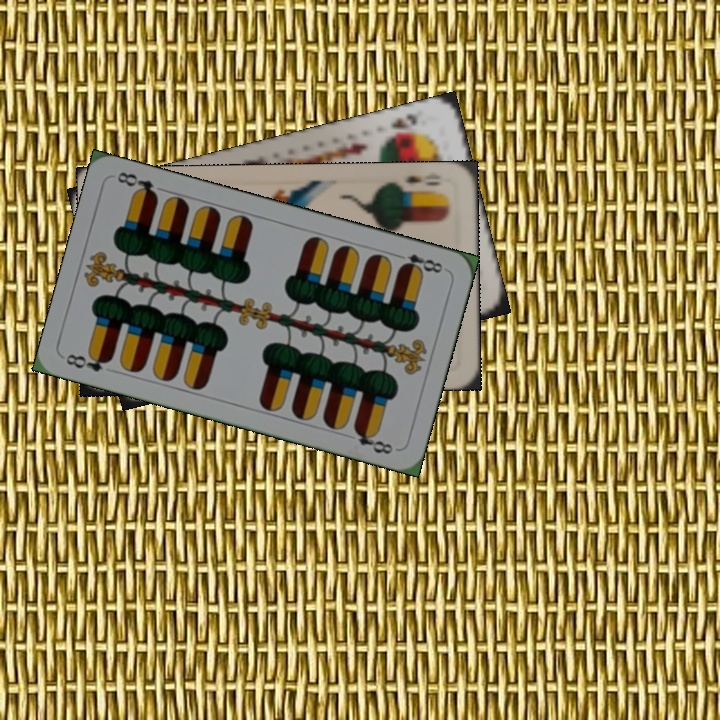E8: (391, 249, 446, 277), (61, 348, 115, 375)
EO: (392, 172, 448, 196)
SK: (380, 109, 420, 144)
